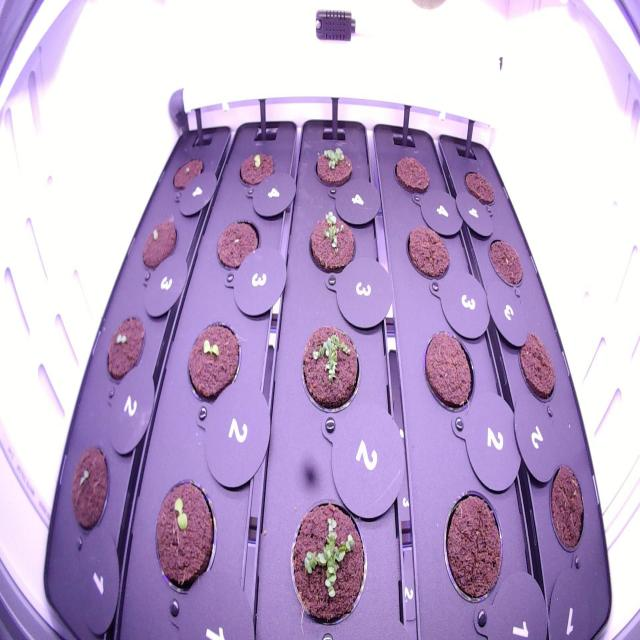germination: (285, 491, 375, 633), (148, 470, 222, 604), (298, 314, 363, 420), (180, 310, 246, 414), (66, 434, 115, 542), (304, 202, 358, 282), (102, 306, 150, 393), (137, 212, 181, 280), (310, 138, 356, 194), (234, 140, 278, 192)
pod: (440, 481, 507, 610), (542, 452, 591, 571), (418, 325, 479, 419), (510, 325, 560, 410), (208, 212, 264, 282), (402, 220, 455, 284), (484, 226, 528, 298), (391, 143, 435, 203), (456, 162, 502, 215), (167, 150, 210, 203)
